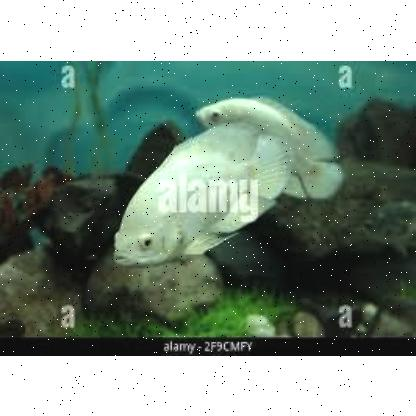gurame: (112, 130, 280, 272)
